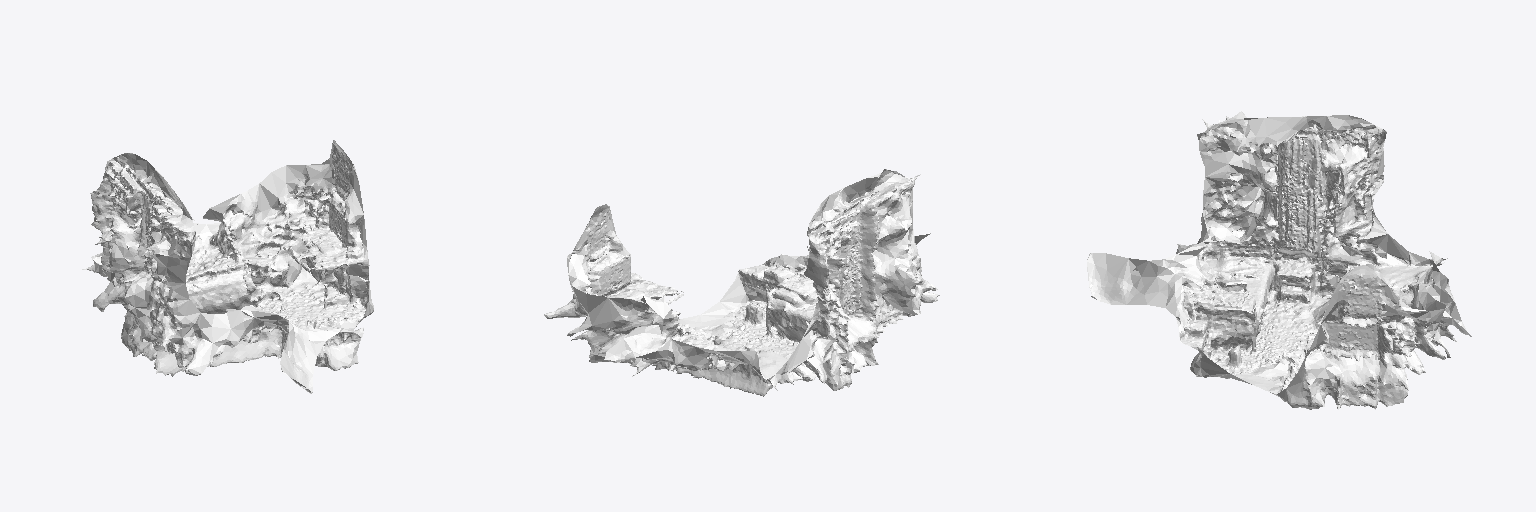
Rendered from map_b2e2db76-ea23-4ae3-ae05-d0302ad172ed_densified_mesh_textured.obj.
3 renders of one model, left to right at view 1: azimuth 30°, elevation 25°; view 2: azimuth 150°, elevation 25°; view 3: azimuth 270°, elevation 25°, orthographic.
Size of the model in its own units: 4.59 by 3.07 by 5.44.